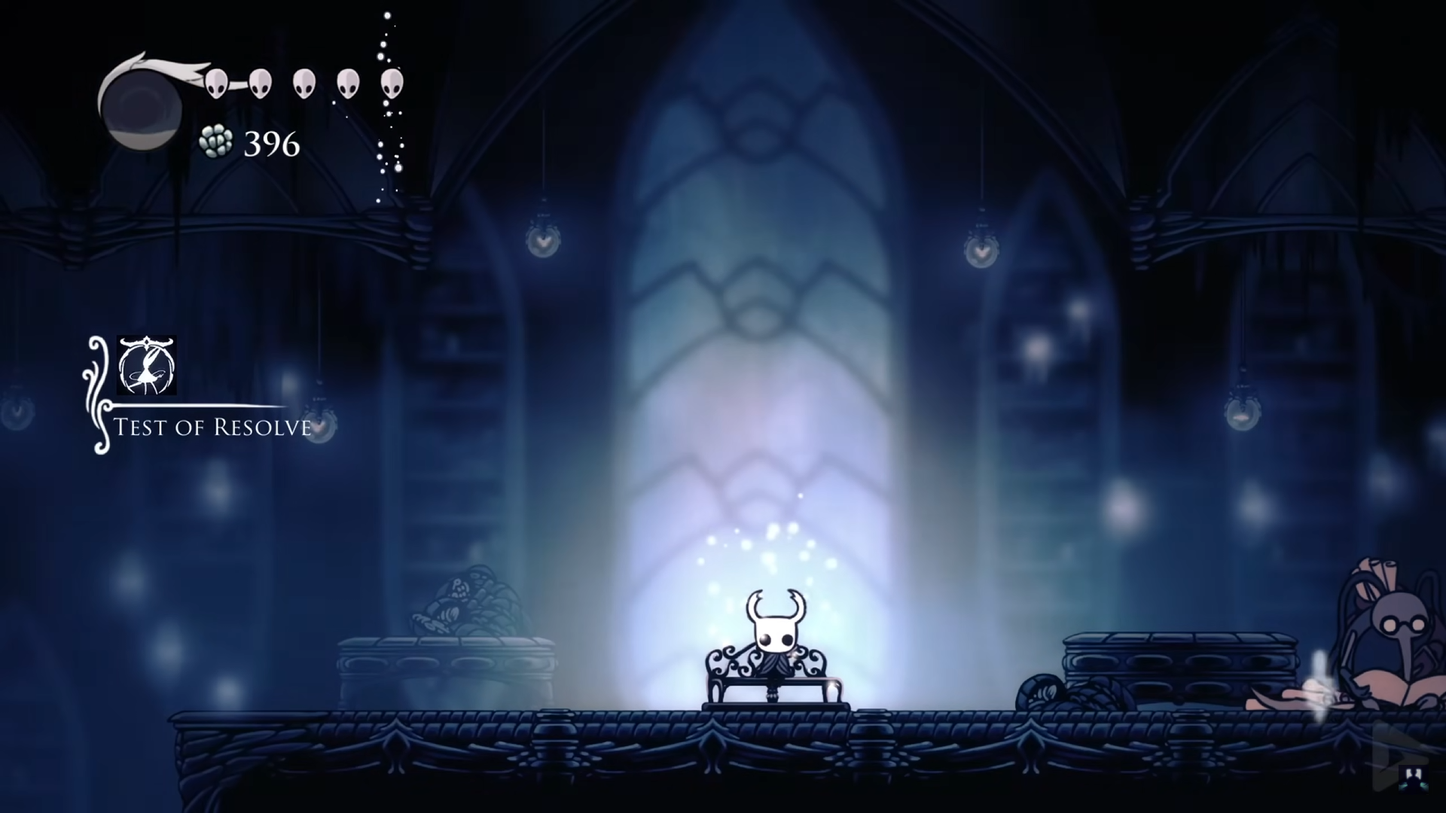HK: (739, 585, 811, 700)
